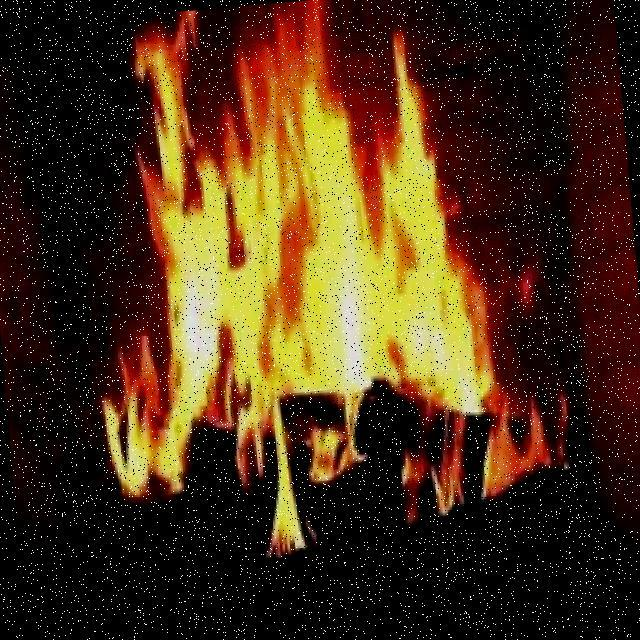Fire: (112, 10, 524, 462)
